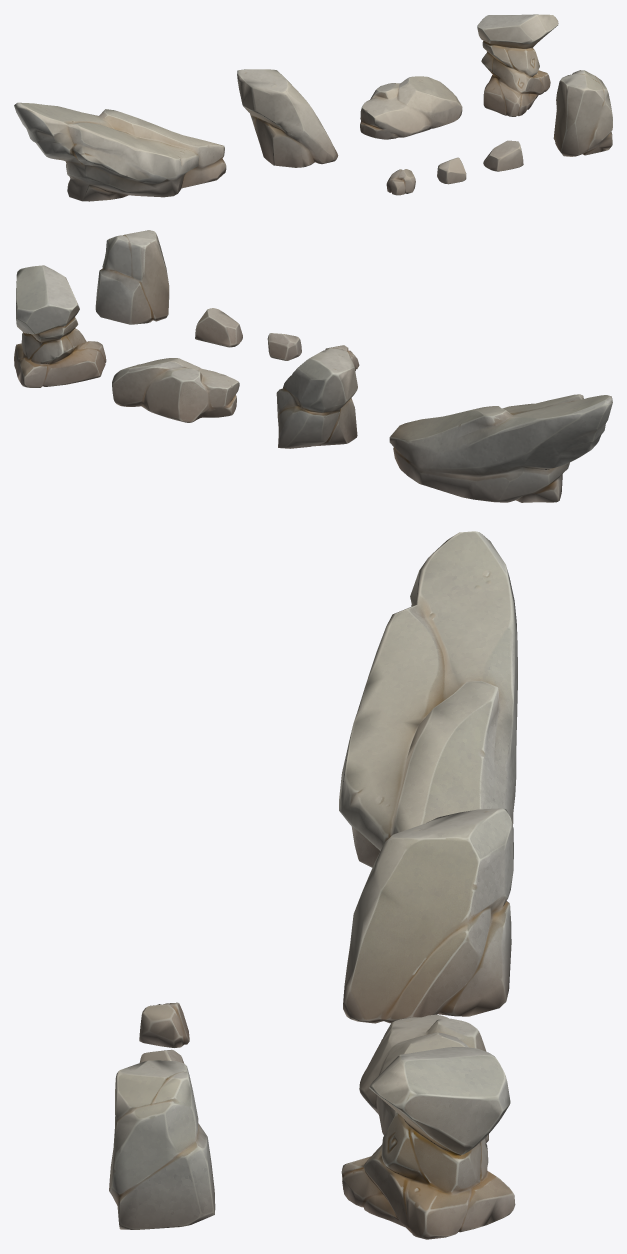
The model's file is Sketchfab_Stone.fbx.
3 renders of one model, top to bottom at view 1: azimuth 30°, elevation 25°; view 2: azimuth 150°, elevation 25°; view 3: azimuth 270°, elevation 25°, orthographic. The views are drawn at different scales.
Parts seen in each view (by area): view 1: Rock2, Rock7, Rock1, Rock6, Rock8, Rock5, Rock3, Rock4; view 2: Rock2, Rock1, Rock7, Rock6, Rock8, Rock5, Rock4; view 3: Rock2, Rock7, Rock1, Rock8, Rock6, Rock3.
Part boxes in pixels (x1,y1,x2,y2): Rock2: (14, 102, 226, 201); Rock7: (237, 69, 338, 167); Rock1: (477, 14, 558, 116); Rock6: (360, 76, 462, 139); Rock8: (553, 70, 612, 156); Rock5: (483, 140, 523, 171); Rock3: (386, 169, 415, 195); Rock4: (437, 157, 466, 184); Rock2: (389, 394, 612, 502); Rock1: (14, 265, 106, 387); Rock7: (276, 348, 357, 448); Rock6: (112, 358, 239, 422); Rock8: (95, 230, 169, 324); Rock5: (195, 308, 242, 347); Rock4: (267, 333, 301, 360); Rock2: (339, 531, 517, 867); Rock7: (343, 808, 513, 1023); Rock1: (341, 1047, 515, 1239); Rock8: (109, 1060, 215, 1229); Rock6: (359, 1014, 488, 1142); Rock3: (139, 1002, 189, 1047).
Bounding box in the file's own units: 969 × 188 × 327.
1 material, 1 textured.
